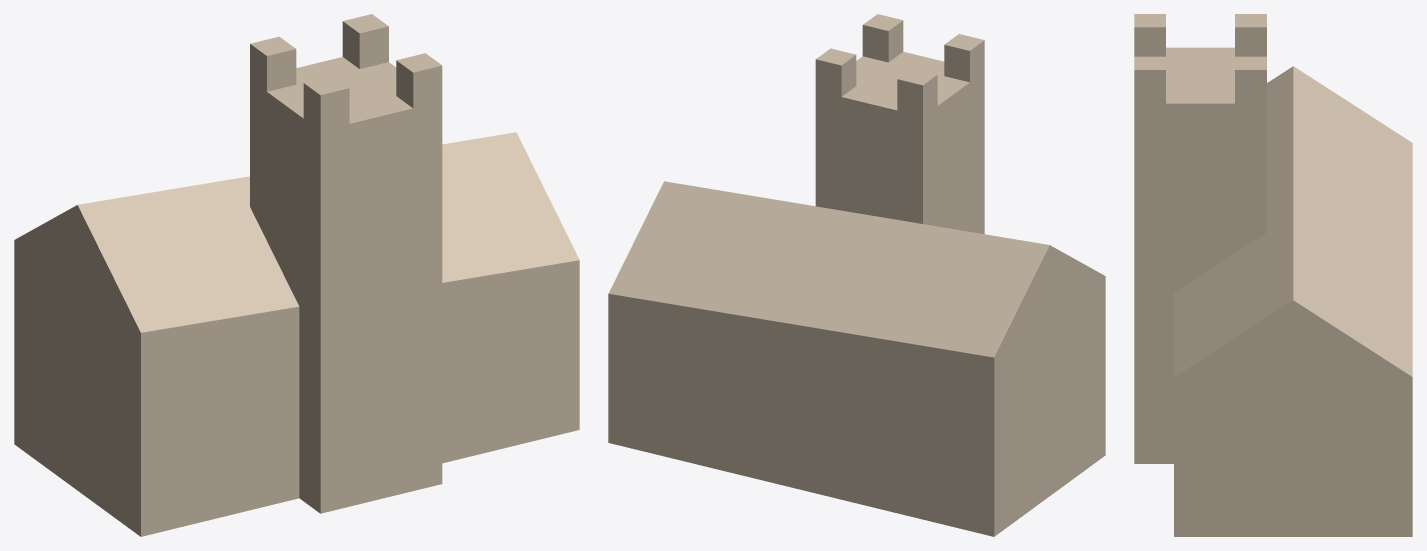
Rendered from placeholder.glb.
The picture shows the model from 3 angles, left to right: view 1: azimuth 30°, elevation 25°; view 2: azimuth 150°, elevation 25°; view 3: azimuth 270°, elevation 25°; orthographic projection. The views are drawn at different scales.
Visible parts, largest first — view 1: geometry_0; view 2: geometry_0; view 3: geometry_0.
Boxes of the visible parts, x1,y1,x2,y2 form: geometry_0: [14, 14, 579, 536]; geometry_0: [608, 14, 1105, 536]; geometry_0: [1134, 14, 1412, 536].
Size of the model in its own units: 18 by 16.4 by 10.5.
